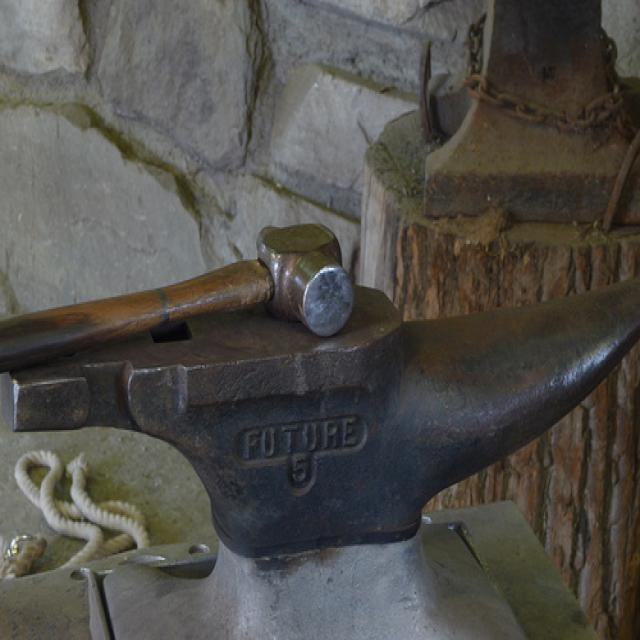hammer: (0, 195, 424, 402)
